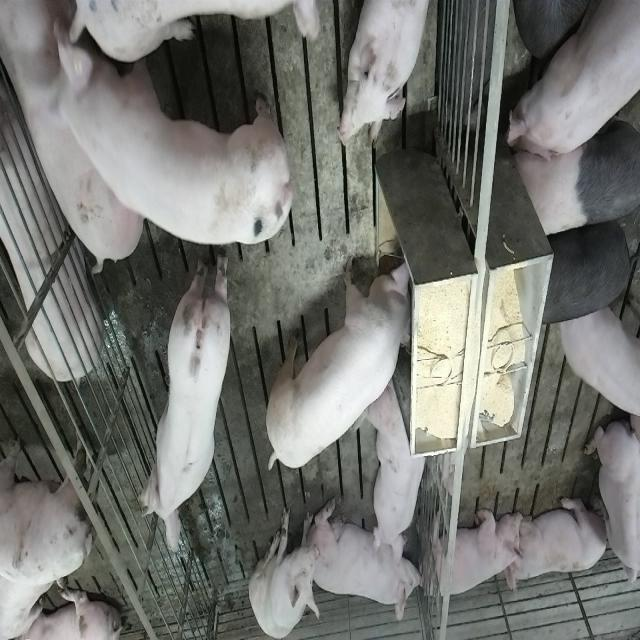Feeding: (270, 249, 422, 472)
Lateral_lying: (0, 0, 150, 270), (1, 18, 102, 384)
Sitting: (249, 503, 320, 638)
Standing: (48, 25, 294, 255), (138, 256, 234, 558), (504, 0, 638, 166), (0, 413, 102, 581), (512, 111, 638, 243), (538, 212, 638, 328), (557, 289, 640, 423)
Sternal_lying: (339, 2, 437, 150), (315, 503, 424, 628), (365, 383, 431, 563), (424, 504, 524, 604), (508, 491, 610, 589), (585, 415, 637, 599)
